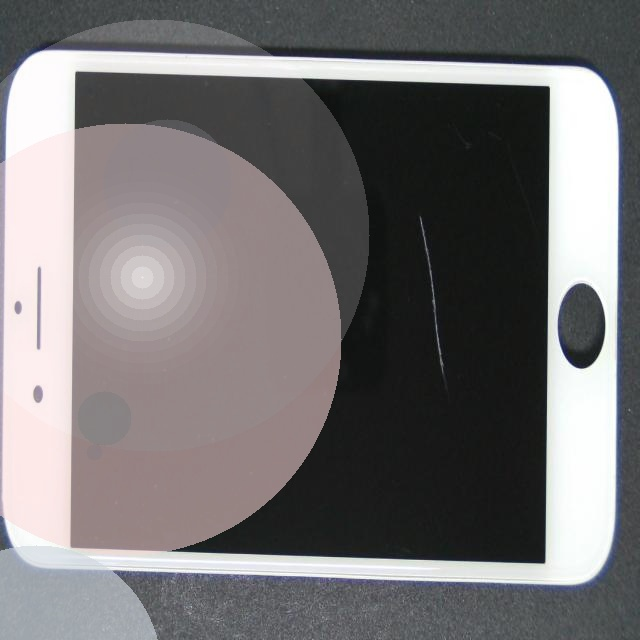scratch: (241, 293, 640, 469)
